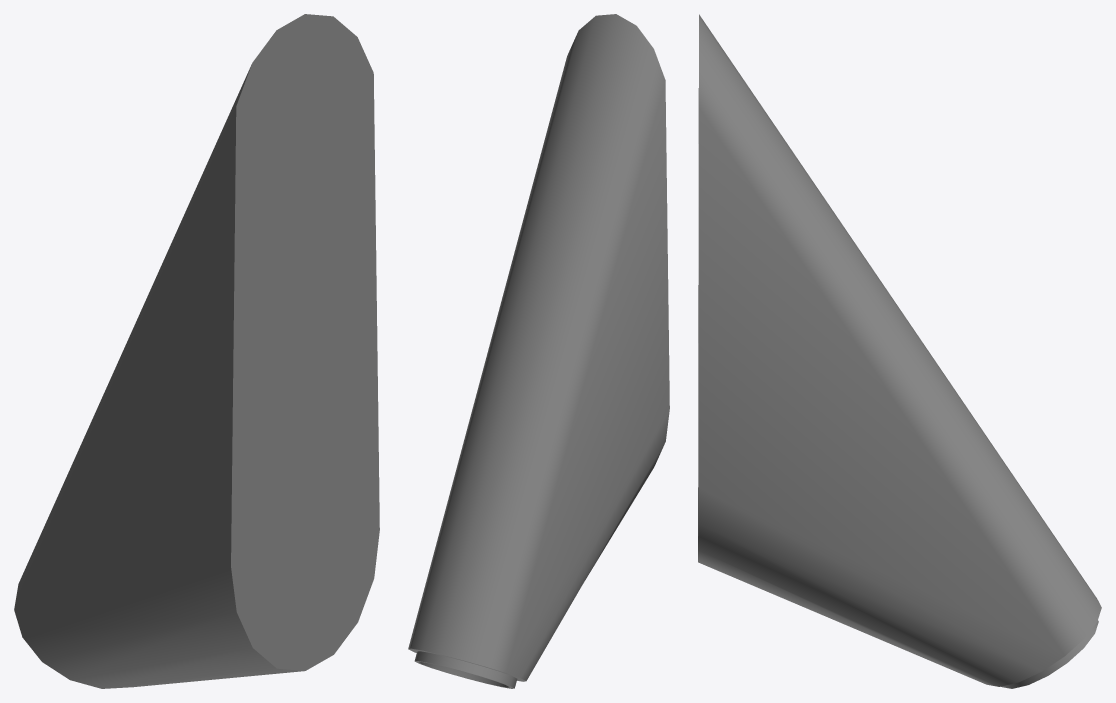
File: Saturn_S4_UllageMotor.dae
The picture shows the model from 3 angles, left to right: view 1: azimuth 30°, elevation 25°; view 2: azimuth 150°, elevation 25°; view 3: azimuth 270°, elevation 25°; orthographic projection. The views are drawn at different scales.
Parts seen in each view (by area): view 1: S4B_Ullage2; view 2: S4B_Ullage2; view 3: S4B_Ullage2.
Boxes of the visible parts, box(x1,y1,x2,y2) form: S4B_Ullage2: box(14, 14, 379, 688); S4B_Ullage2: box(408, 14, 669, 688); S4B_Ullage2: box(698, 14, 1101, 688).
Bounding box in the file's own units: 0.1137 × 0.5864 × 0.3243.
